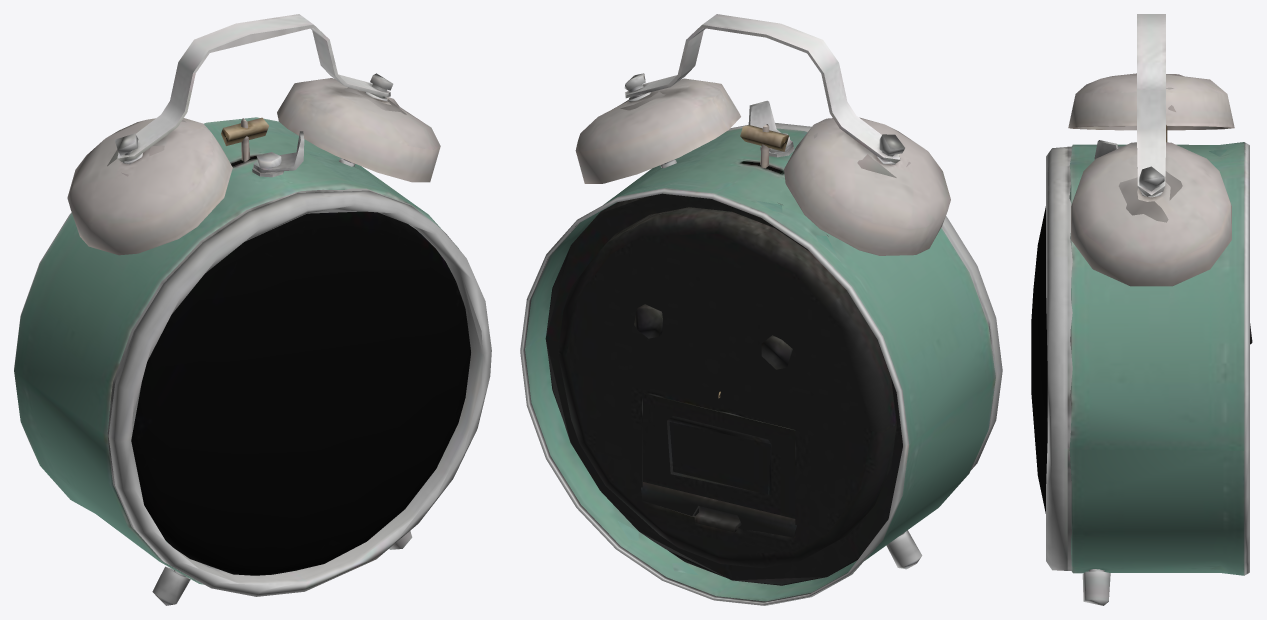
3 views of the same model, side by side, from view 1: azimuth 30°, elevation 25°; view 2: azimuth 150°, elevation 25°; view 3: azimuth 270°, elevation 25° (orthographic). The views are drawn at different scales.
Parts seen in each view (by area): view 1: alarm_clock_01; view 2: alarm_clock_01; view 3: alarm_clock_01.
Part boxes in pixels (box(x1,y1,x2,y2)): alarm_clock_01: box(14, 14, 491, 605); alarm_clock_01: box(520, 14, 1002, 605); alarm_clock_01: box(1031, 14, 1252, 605).
Bounding box in the file's own units: 0.1312 × 0.1738 × 0.0666.
Materials: 2 (2 with a texture image).
